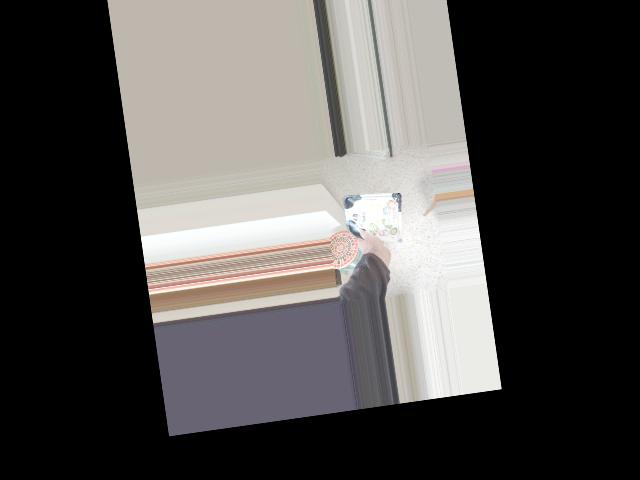cheese: (344, 200, 409, 266)
